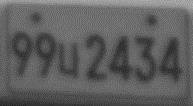2: (85, 33, 109, 83)
3: (133, 35, 157, 82)
4: (109, 34, 133, 81), (160, 39, 184, 83)
9: (33, 32, 57, 77), (10, 32, 32, 77)
나: (57, 41, 81, 78)
